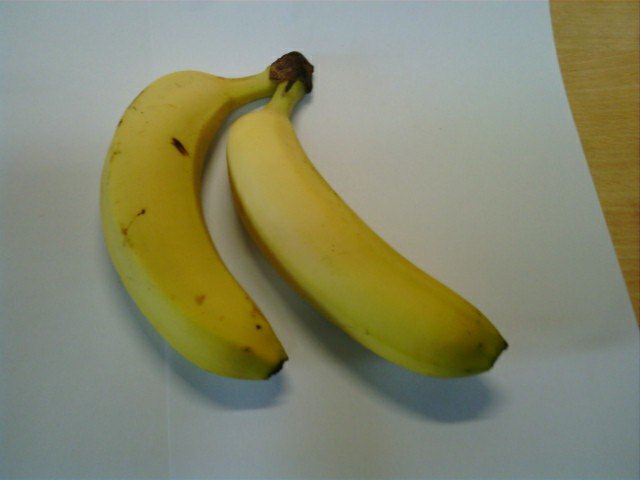fresh_banana: (228, 103, 506, 378)
normal_banana: (96, 69, 285, 379)
